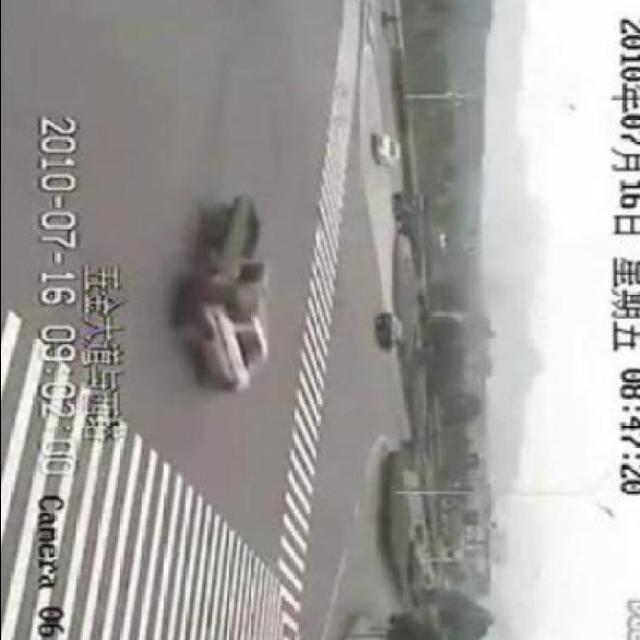accident: (169, 194, 281, 396)
